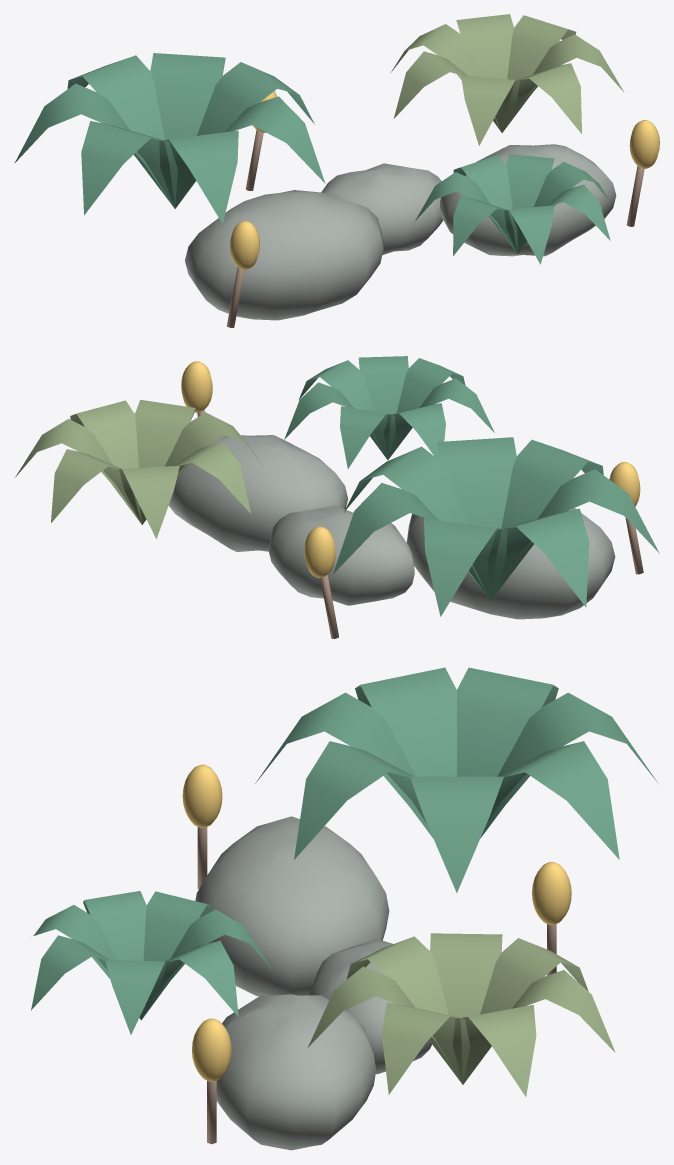
File: FestivalGroveDetail.fbx
The picture shows the model from 3 angles, top to bottom: view 1: azimuth 30°, elevation 25°; view 2: azimuth 150°, elevation 25°; view 3: azimuth 270°, elevation 25°; orthographic projection. The views are drawn at different scales.
Parts seen in each view (by area): view 1: FestivalGroveDetail Leaf__Leaf, FestivalGroveDetail Stone__Stone, FestivalGroveDetail LeafWarm__LeafWarm, FestivalGroveDetail Gold__Gold, FestivalGroveDetail Bark__Bark; view 2: FestivalGroveDetail Leaf__Leaf, FestivalGroveDetail Stone__Stone, FestivalGroveDetail LeafWarm__LeafWarm, FestivalGroveDetail Gold__Gold, FestivalGroveDetail Bark__Bark; view 3: FestivalGroveDetail Leaf__Leaf, FestivalGroveDetail Stone__Stone, FestivalGroveDetail LeafWarm__LeafWarm, FestivalGroveDetail Gold__Gold, FestivalGroveDetail Bark__Bark.
Boxes of the visible parts, x1,y1,x2,y2 form: FestivalGroveDetail Leaf__Leaf: [14, 53, 610, 264]; FestivalGroveDetail Stone__Stone: [185, 144, 616, 320]; FestivalGroveDetail LeafWarm__LeafWarm: [391, 14, 624, 145]; FestivalGroveDetail Gold__Gold: [230, 91, 659, 269]; FestivalGroveDetail Bark__Bark: [227, 130, 644, 327]; FestivalGroveDetail Leaf__Leaf: [284, 356, 659, 616]; FestivalGroveDetail Stone__Stone: [168, 435, 615, 619]; FestivalGroveDetail LeafWarm__LeafWarm: [15, 400, 261, 538]; FestivalGroveDetail Gold__Gold: [181, 361, 640, 577]; FestivalGroveDetail Bark__Bark: [197, 409, 643, 638]; FestivalGroveDetail Leaf__Leaf: [31, 667, 658, 1034]; FestivalGroveDetail Stone__Stone: [195, 816, 431, 1150]; FestivalGroveDetail LeafWarm__LeafWarm: [307, 933, 615, 1096]; FestivalGroveDetail Gold__Gold: [182, 764, 571, 1081]; FestivalGroveDetail Bark__Bark: [197, 827, 556, 1144].
Size of the model in its own units: 269 by 82.24 by 211.
